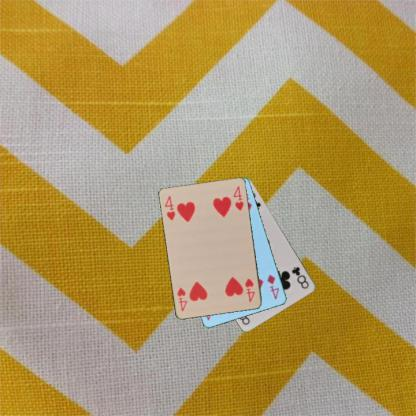4d: (265, 272, 280, 301)
4h: (162, 193, 177, 222), (242, 276, 257, 303)
8c: (289, 264, 310, 291)
